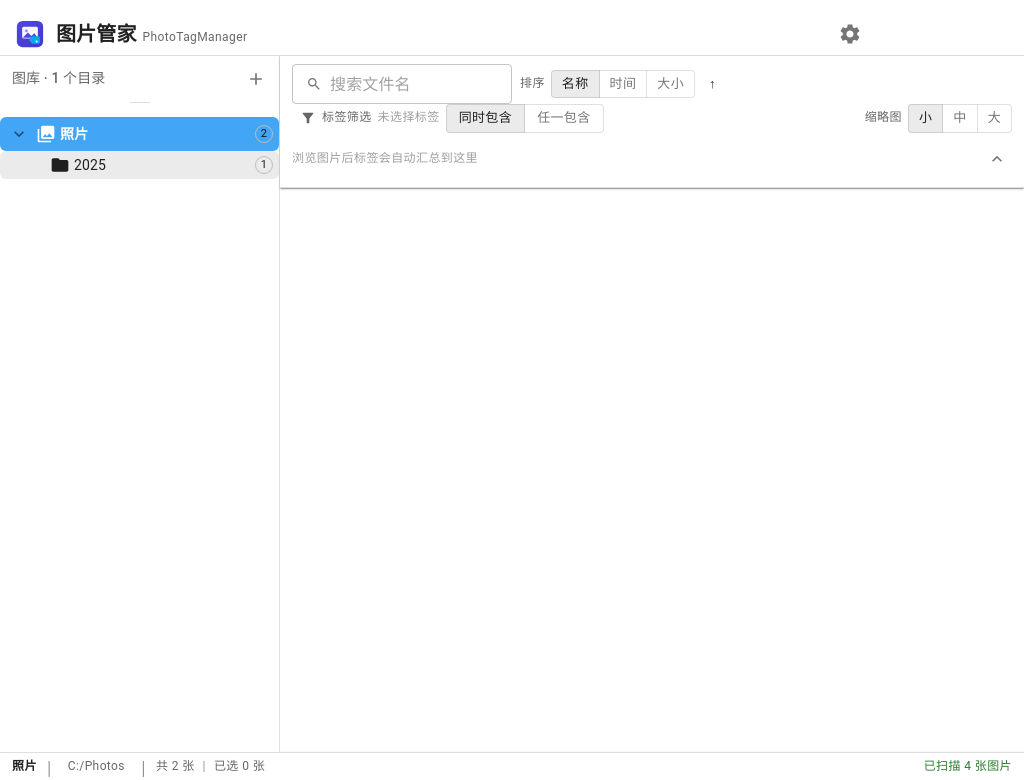
Scenario: 左栏右键菜单的「取消隐藏」区 › 两个及以上平铺成「全部恢复（N）」+ 已隐藏小标题 + 逐项
Right-click the list item with aria-label "目录 照片" at (140, 134), box [0,117,279,151]
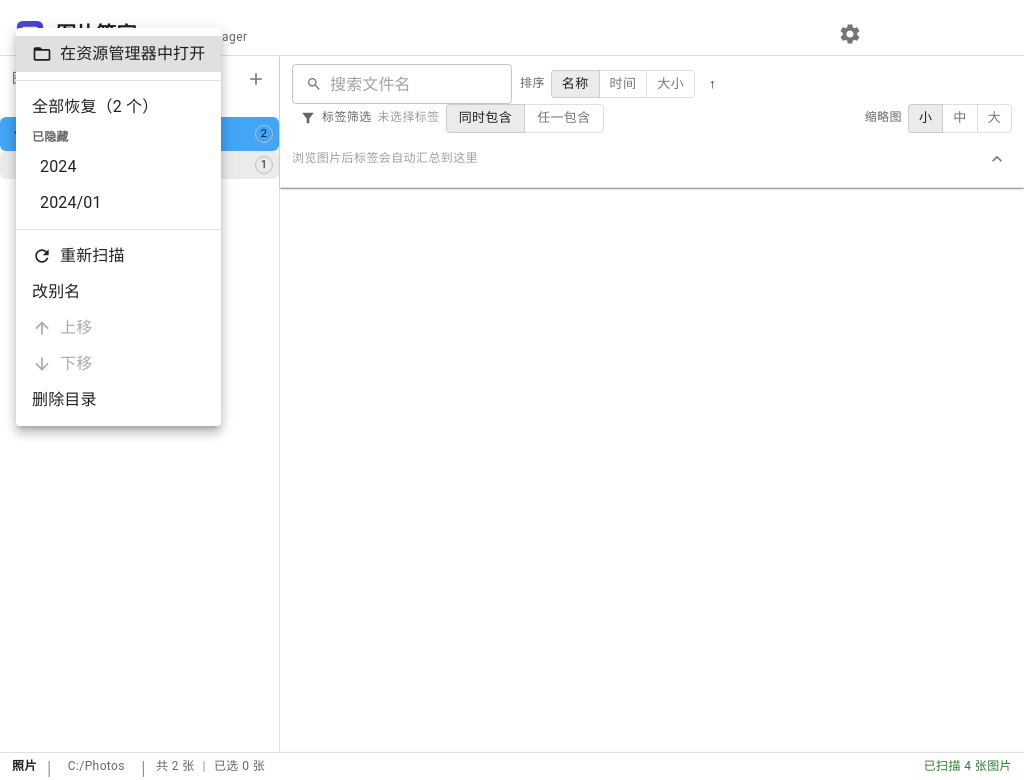
Check: the menu item "全部恢复（2 个）" is shown, box [32,97,158,116]
Check: the text "已隐藏" is shown, box [16,125,221,149]
Check: the menu item "2024" is shown, box [40,157,77,176]
